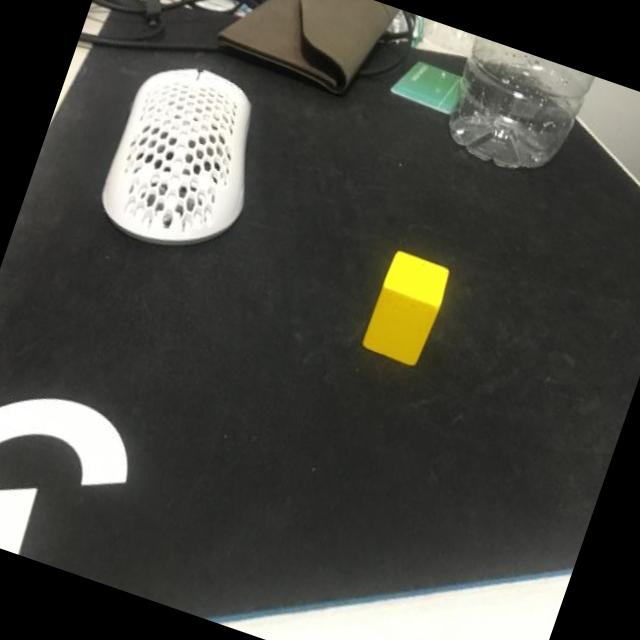yellow: (360, 248, 453, 368)
